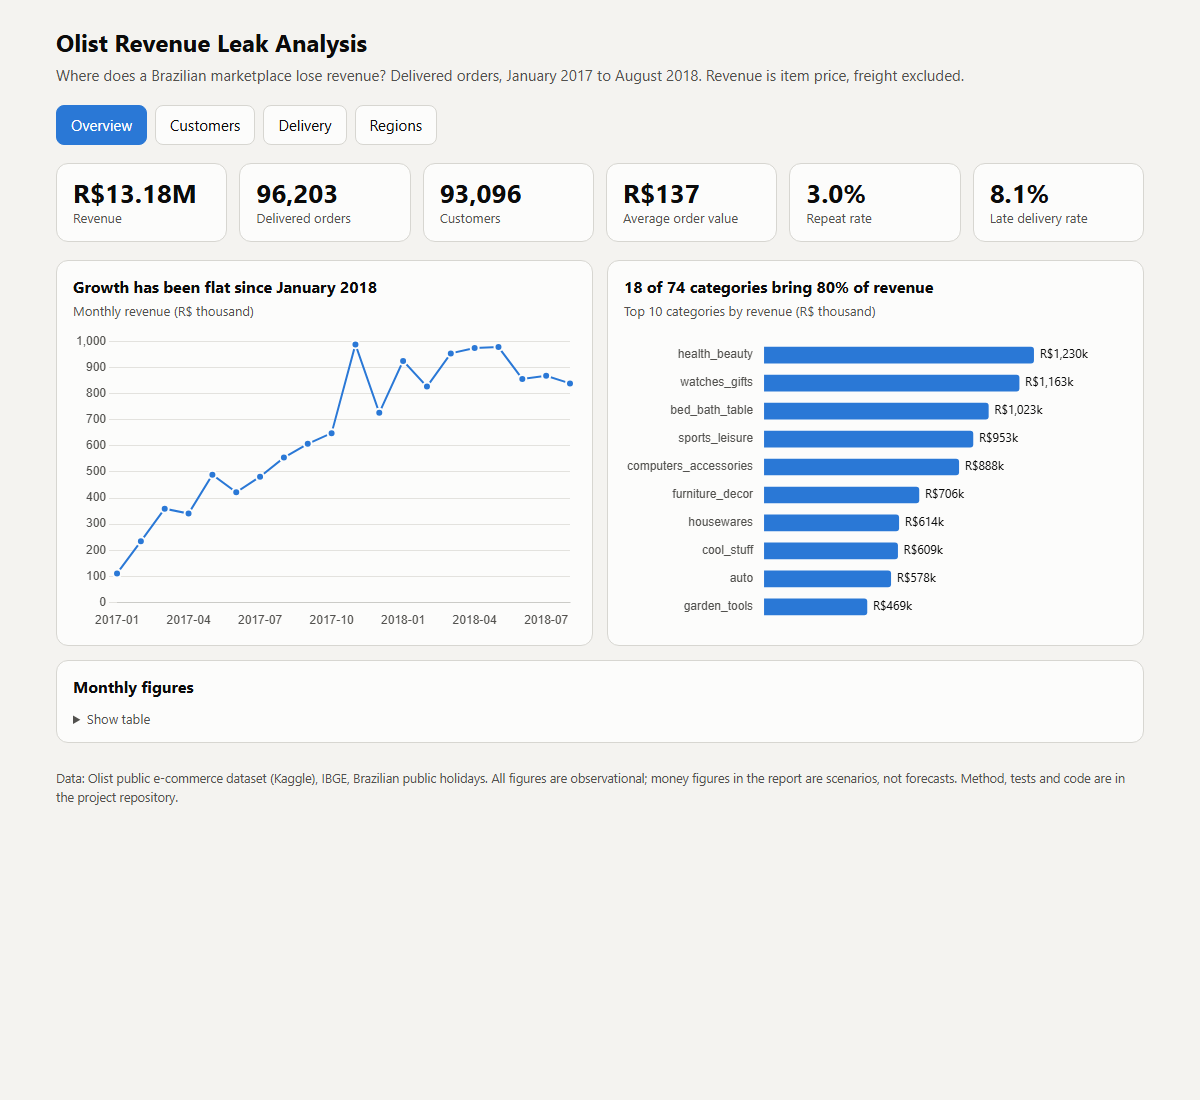

The page's visual inventory and layout, read from the dashboard file:
{"tool":"powerbi","page":{"name":"Overview","canvas":[1280,720],"ordinal":0},"visuals":[{"type":"textbox","box":[20,12,900,44],"z":0},{"type":"slicer","fields":{"Values":["dim_customer.state"]},"box":[930,10,160,50],"z":10},{"type":"slicer","fields":{"Values":["dim_date.year"]},"box":[1100,10,160,50],"z":20},{"type":"card","fields":{"Values":["fact_orders.Revenue"]},"box":[20,70,195,90],"z":30},{"type":"card","fields":{"Values":["fact_orders.Orders"]},"box":[225,70,195,90],"z":40},{"type":"card","fields":{"Values":["fact_orders.Customers"]},"box":[430,70,195,90],"z":50},{"type":"card","fields":{"Values":["fact_orders.AOV"]},"box":[635,70,195,90],"z":60},{"type":"card","fields":{"Values":["fact_orders.Repeat Rate"]},"box":[840,70,195,90],"z":70},{"type":"card","fields":{"Values":["fact_orders.Late Rate"]},"box":[1045,70,195,90],"z":80},{"type":"lineChart","title":"Growth has been flat since January 2018","fields":{"Category":["dim_date.year_month"],"Y":["fact_orders.Revenue"]},"box":[20,175,620,530],"z":90},{"type":"clusteredBarChart","title":"18 of 74 categories bring 80% of revenue (top 10 shown)","fields":{"Category":["dim_product.category"],"Y":["fact_orders.Revenue Top 10 Category"]},"box":[660,175,600,530],"z":100}]}

Visuals, with their boxes on the page's 1280x720 design canvas (x1, y1, x2, y2). These are canvas units, not pixel positions in the 1200x1100 screenshot, which may show the page scaled, cropped or inside an application window:
textbox: pyautogui.locateOnScreen(20, 12, 920, 56)
slicer - dim_customer.state: pyautogui.locateOnScreen(930, 10, 1090, 60)
slicer - dim_date.year: pyautogui.locateOnScreen(1100, 10, 1260, 60)
card - fact_orders.Revenue: pyautogui.locateOnScreen(20, 70, 215, 160)
card - fact_orders.Orders: pyautogui.locateOnScreen(225, 70, 420, 160)
card - fact_orders.Customers: pyautogui.locateOnScreen(430, 70, 625, 160)
card - fact_orders.AOV: pyautogui.locateOnScreen(635, 70, 830, 160)
card - fact_orders.Repeat Rate: pyautogui.locateOnScreen(840, 70, 1035, 160)
card - fact_orders.Late Rate: pyautogui.locateOnScreen(1045, 70, 1240, 160)
"Growth has been flat since January 2018" lineChart: pyautogui.locateOnScreen(20, 175, 640, 705)
"18 of 74 categories bring 80% of revenue (top 10 shown)" clusteredBarChart: pyautogui.locateOnScreen(660, 175, 1260, 705)
